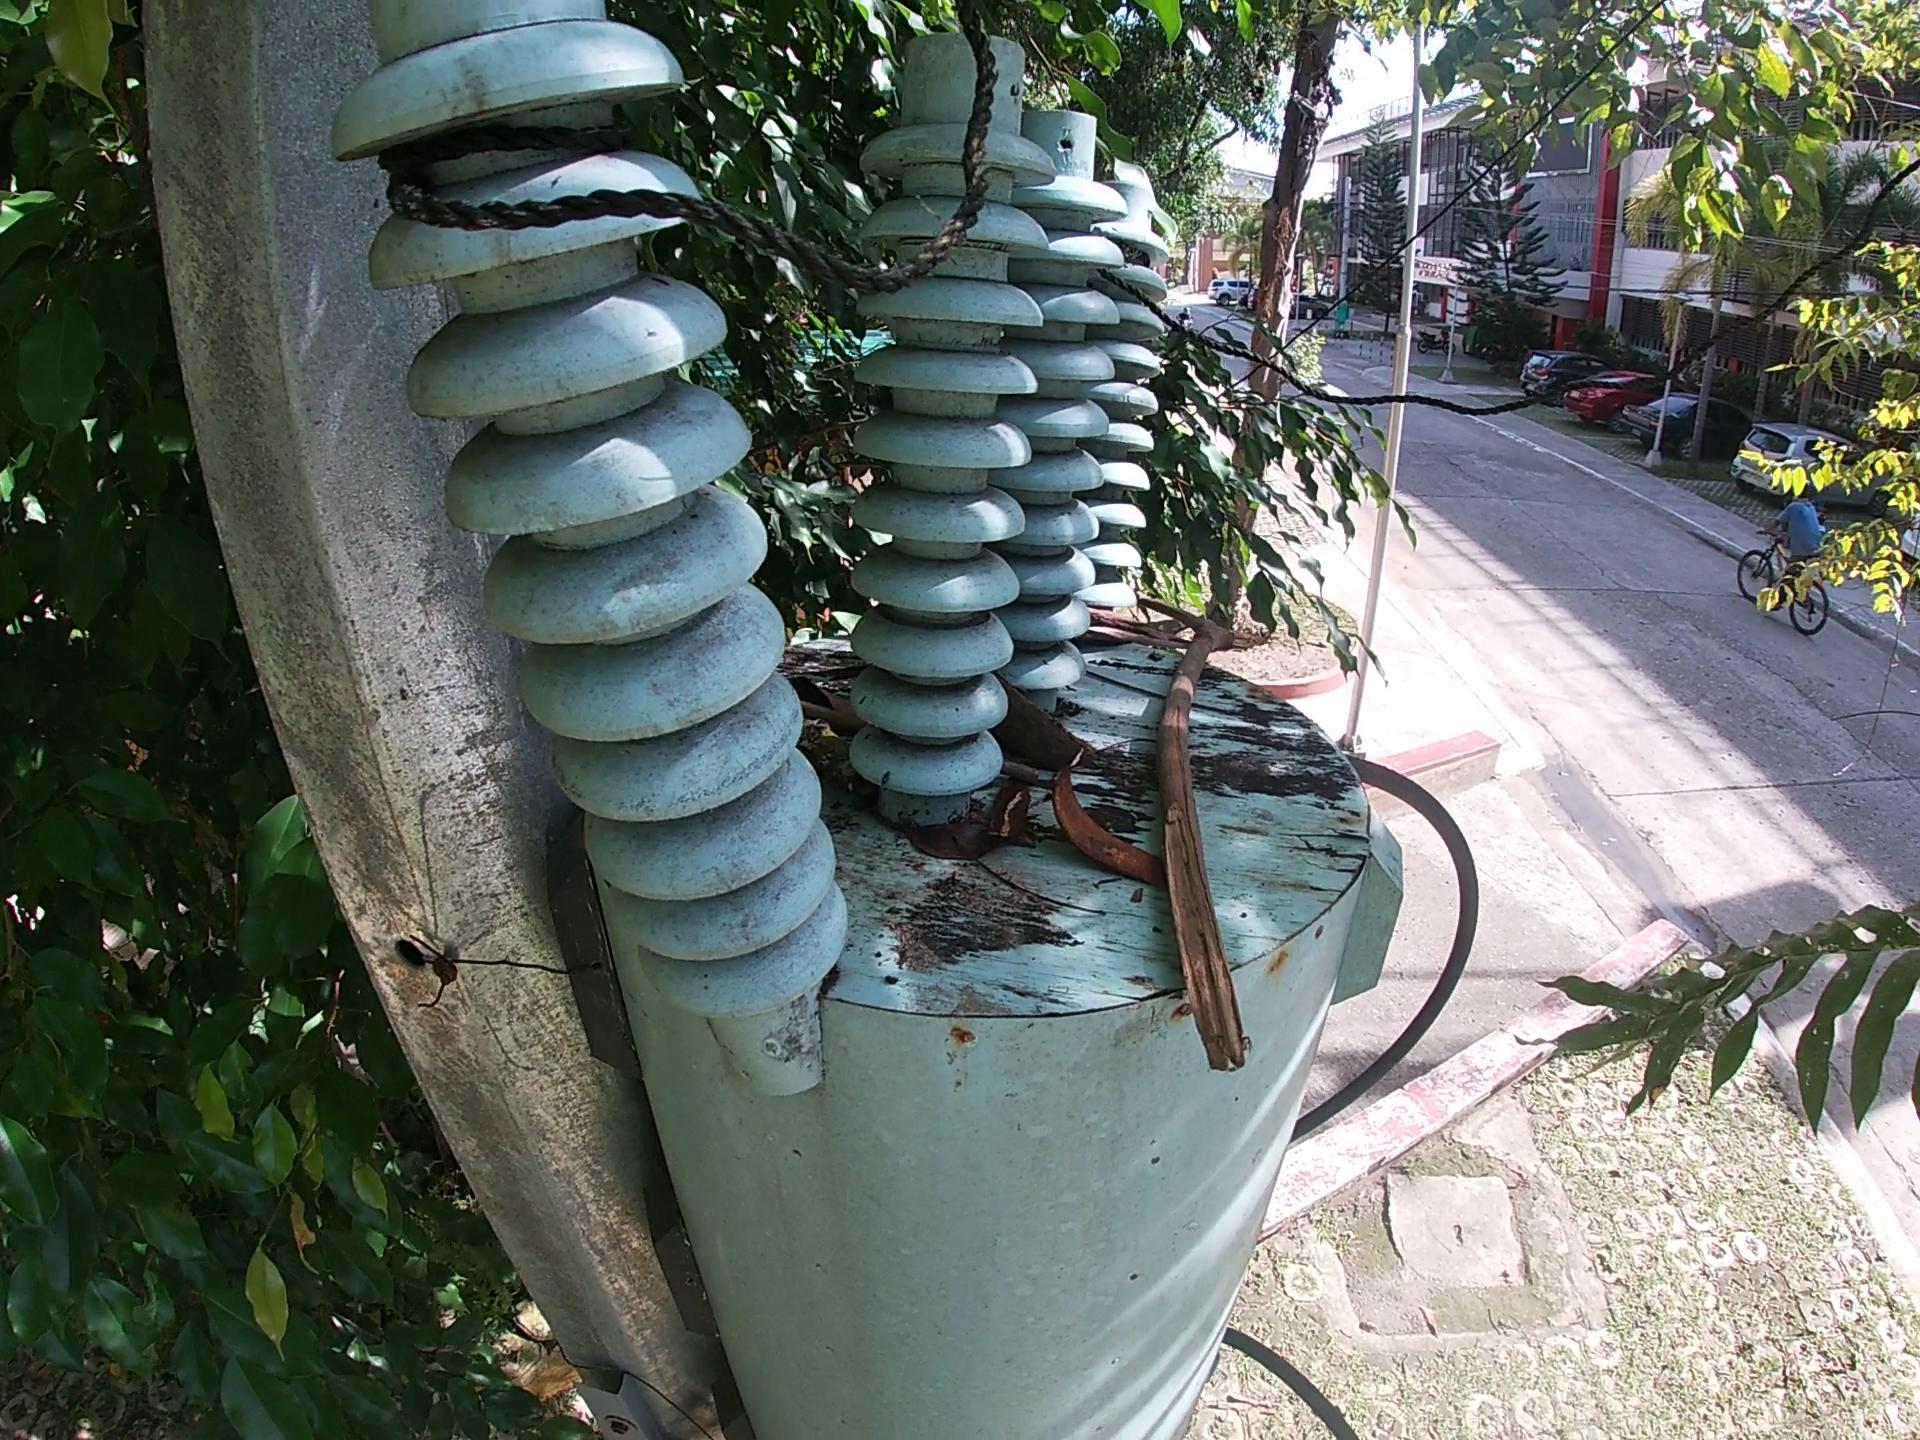leaf: (906, 821, 977, 853)
mahogany fruit: (1061, 771, 1175, 898), (996, 700, 1123, 771)
tree branch: (1172, 588, 1281, 1103), (974, 858, 1116, 935), (1078, 664, 1252, 722), (792, 706, 859, 793), (1078, 604, 1185, 650), (986, 777, 1042, 846), (788, 694, 857, 722)
